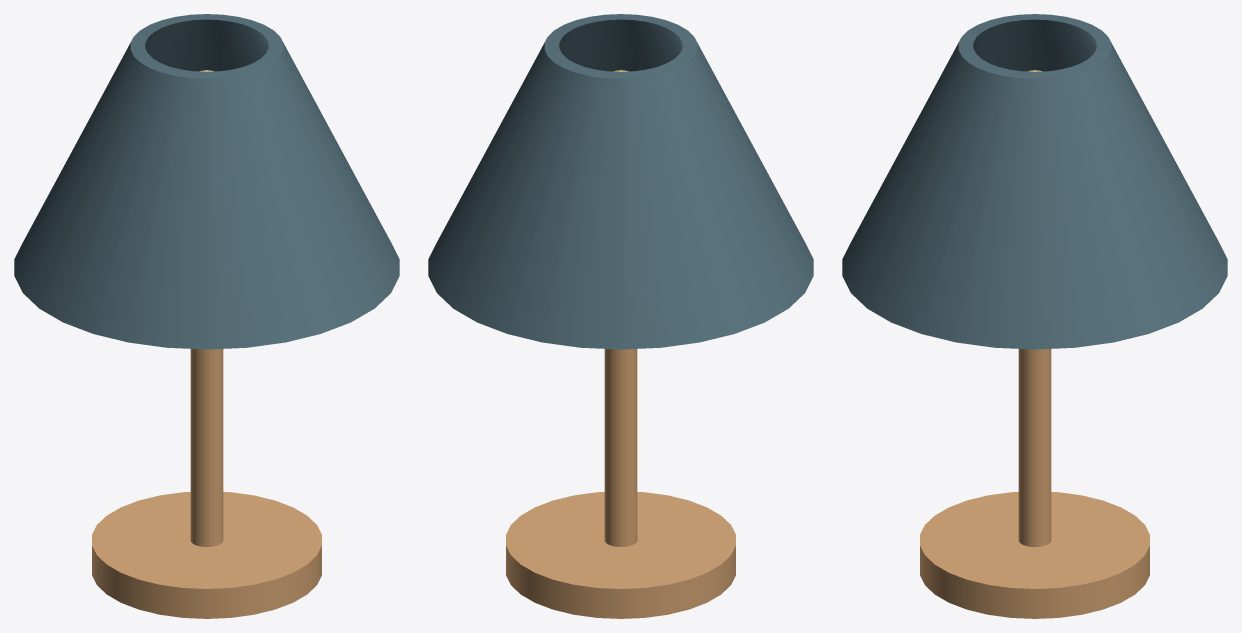
File: TableLamp.fbx
The picture shows the model from 3 angles, left to right: view 1: azimuth 30°, elevation 25°; view 2: azimuth 150°, elevation 25°; view 3: azimuth 270°, elevation 25°; orthographic projection.
Visible parts, largest first — view 1: TableLamp_stanick; view 2: TableLamp_stanick; view 3: TableLamp_stanick.
Part boxes in pixels (x1,y1,x2,y2): TableLamp_stanick: [14, 14, 399, 618]; TableLamp_stanick: [428, 14, 813, 618]; TableLamp_stanick: [842, 14, 1227, 618].
Bounding box in the file's own units: 292 × 291 × 437.
